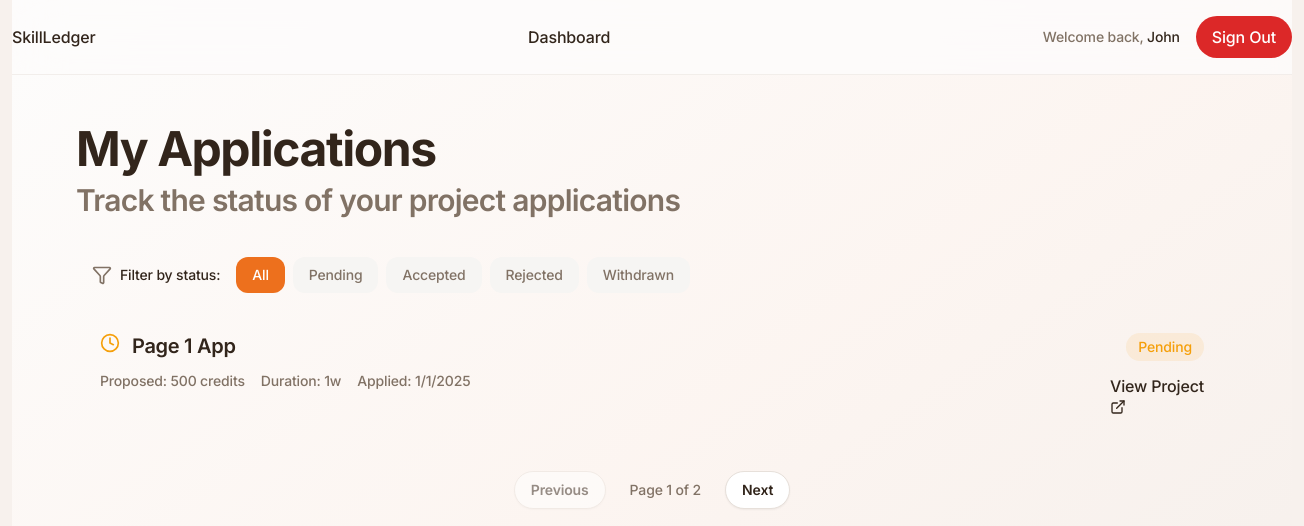
Scenario: MyApplicationsPage - Pagination › should navigate to next page when Next button clicked
The width and height of the screenshot is (1304, 526).
Expected: the heading "Page 1 App" is shown, x1=132 y1=332 x2=236 y2=358
Step 1. Click the button "Next" → [758, 490], box x1=725 y1=470 x2=790 y2=508
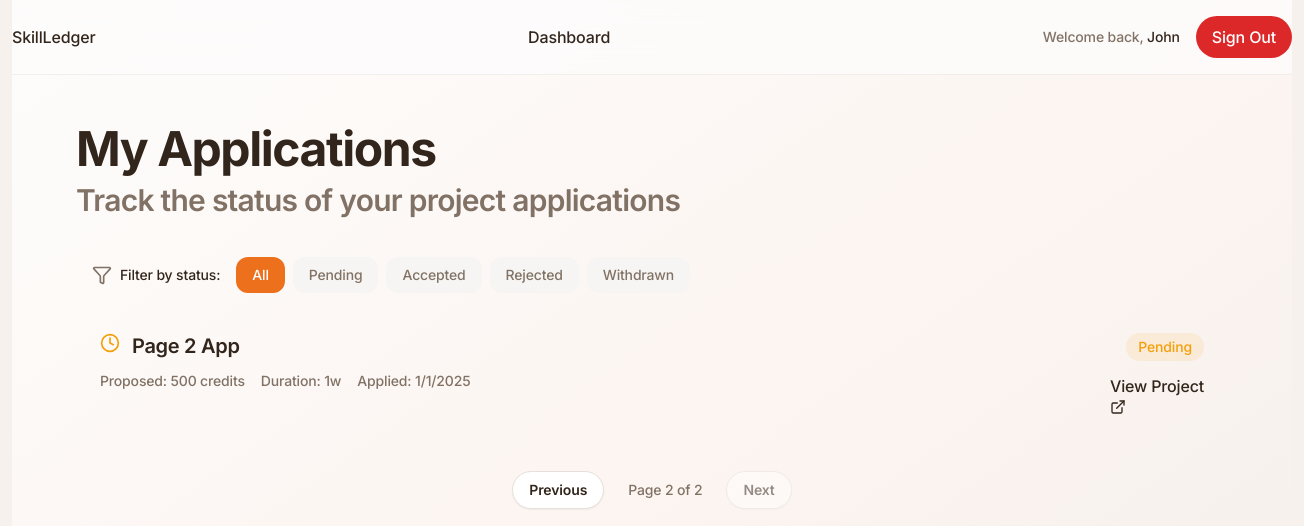
Expected: the heading "Page 2 App" is shown, x1=132 y1=332 x2=240 y2=358
